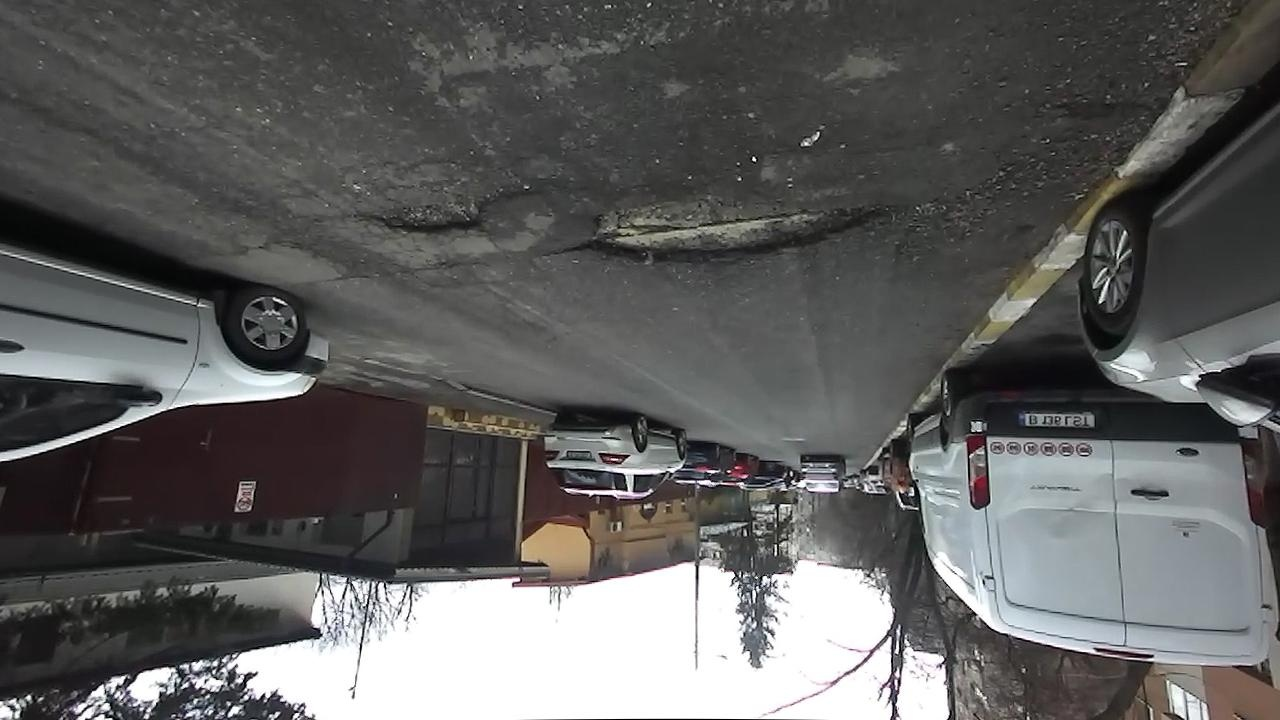pothole: (546, 180, 915, 274), (354, 180, 536, 240)
